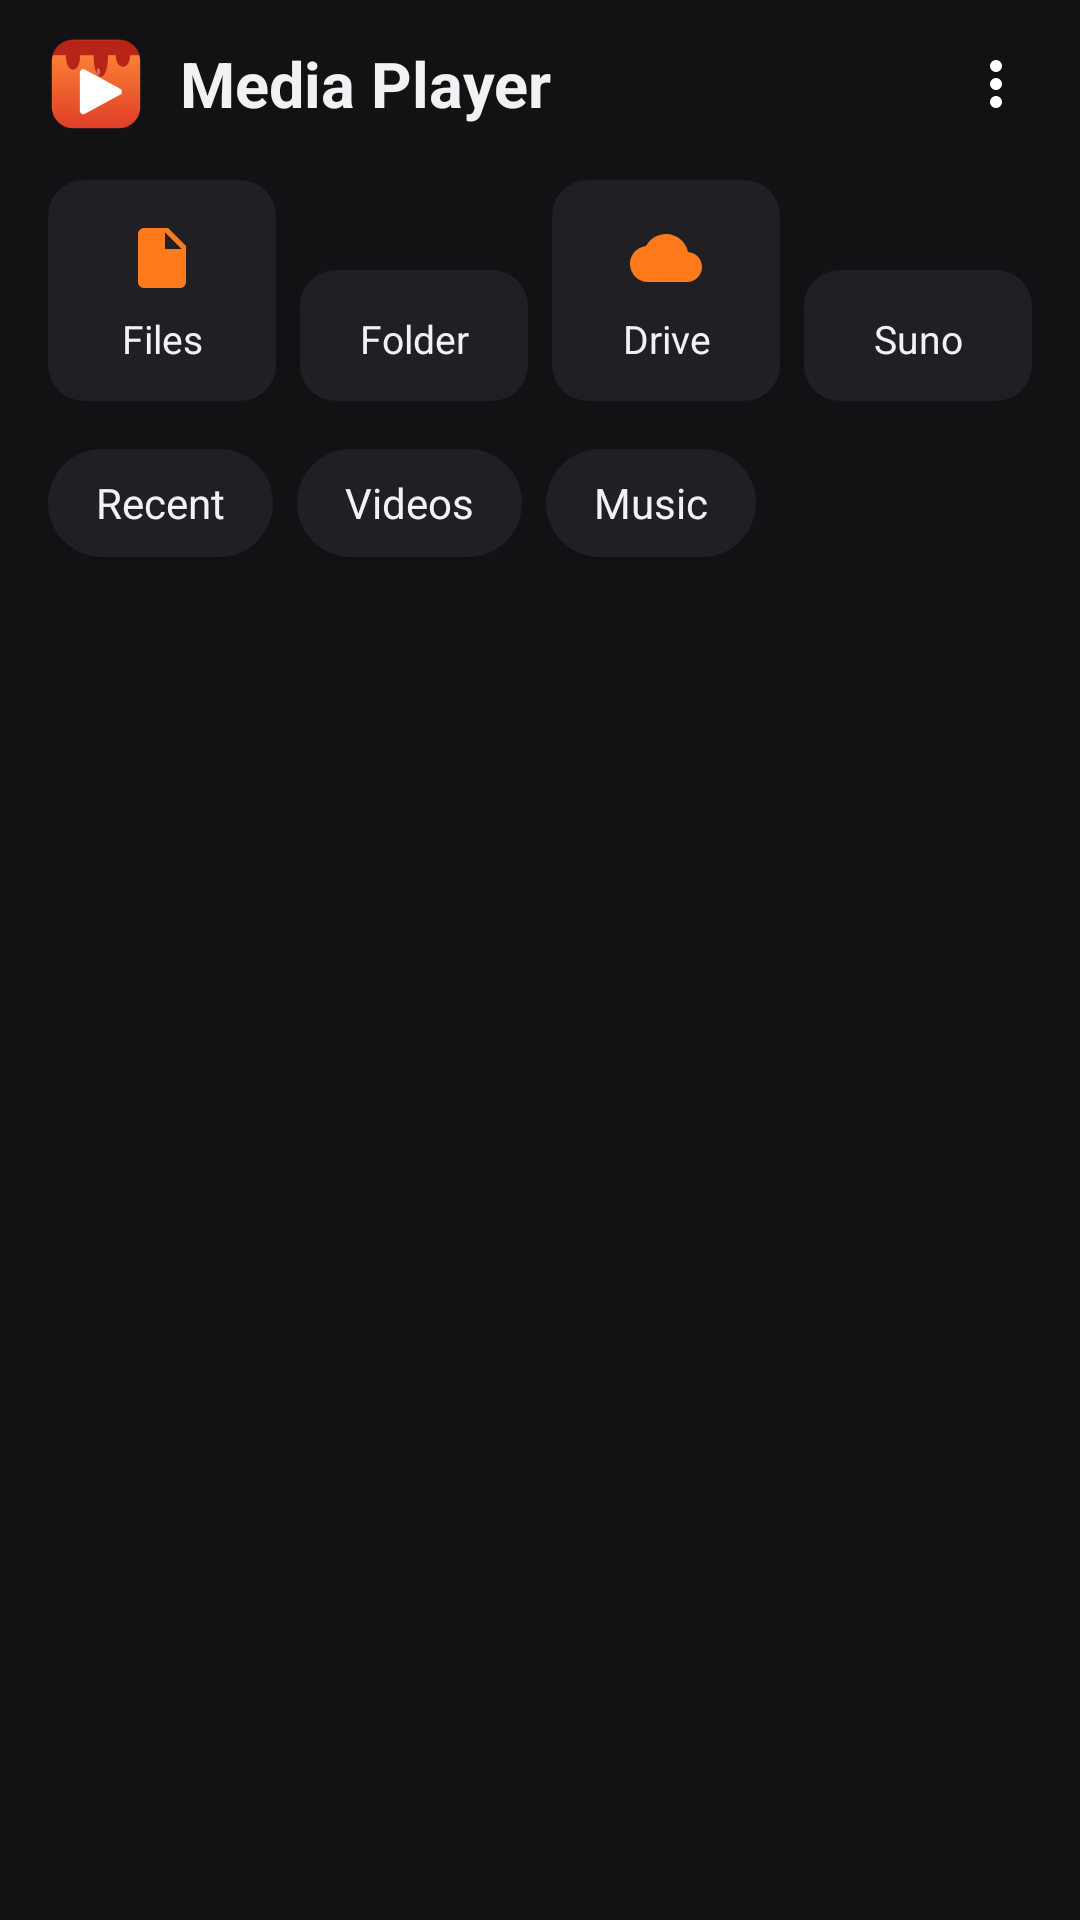

Named icons in this screenshot (1080 x 1920) and their bounding boxes, (x1,y1,x2,y2):
More: (990,60,1002,108)
